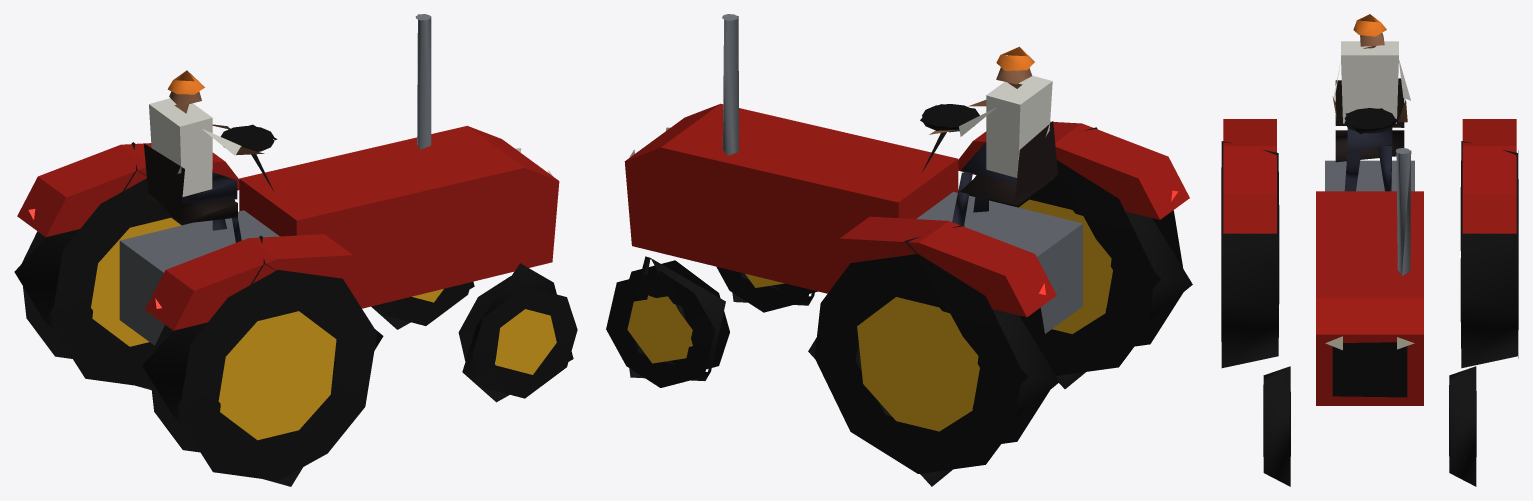
The model's file is tractor_lod1.glb.
3 renders of one model, left to right at view 1: azimuth 30°, elevation 25°; view 2: azimuth 150°, elevation 25°; view 3: azimuth 270°, elevation 25°, orthographic. The views are drawn at different scales.
Parts seen in each view (by area): view 1: tractor_body, wheel_rr.006, wheel_rl.006, wheel_fr.004, wheel_fl.004; view 2: tractor_body, wheel_rl.006, wheel_rr.006, wheel_fl.004, wheel_fr.004; view 3: tractor_body, wheel_rl.006, wheel_rr.006, wheel_fl.004, wheel_fr.004.
Part boxes in pixels (x1=…): tractor_body: x1=17, y1=14, x2=559, y2=345; wheel_rr.006: x1=142, y1=235, x2=383, y2=486; wheel_rl.006: x1=14, y1=142, x2=190, y2=389; wheel_fr.004: x1=458, y1=263, x2=577, y2=402; wheel_fl.004: x1=371, y1=282, x2=474, y2=329; tractor_body: x1=624, y1=14, x2=1189, y2=333; wheel_rl.006: x1=808, y1=224, x2=1059, y2=486; wheel_rr.006: x1=969, y1=127, x2=1192, y2=388; wheel_fl.004: x1=606, y1=256, x2=729, y2=387; wheel_fr.004: x1=716, y1=266, x2=817, y2=312; tractor_body: x1=1223, y1=14, x2=1516, y2=405; wheel_rl.006: x1=1460, y1=141, x2=1518, y2=368; wheel_rr.006: x1=1221, y1=141, x2=1279, y2=368; wheel_fl.004: x1=1449, y1=366, x2=1476, y2=486; wheel_fr.004: x1=1263, y1=366, x2=1290, y2=486.
Size of the model in its own units: 3.2 by 2.48 by 1.99.
2 materials, 1 textured.
